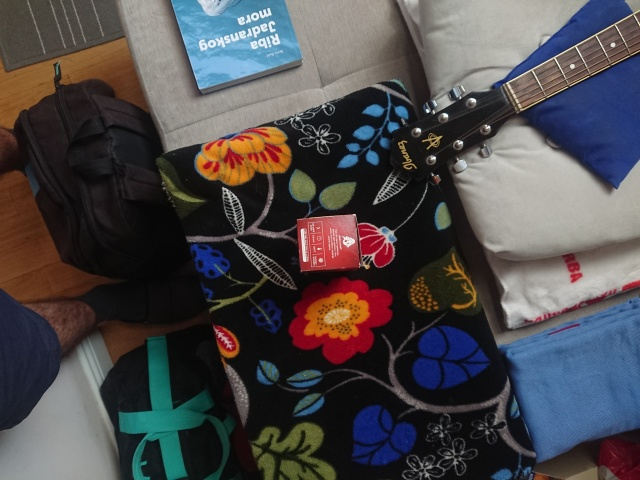Franck Apple Cinnamon Tea 60g: (294, 212, 364, 272)
